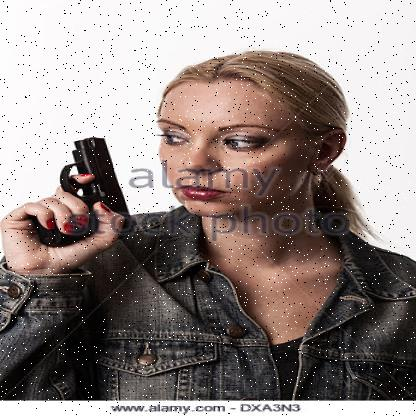pistol: (31, 136, 134, 248)
